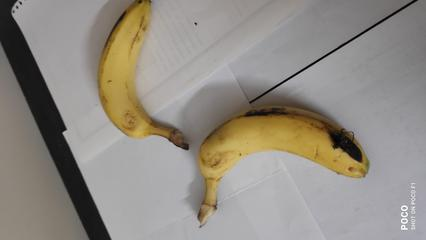banana: (194, 105, 368, 190), (96, 1, 163, 138)
